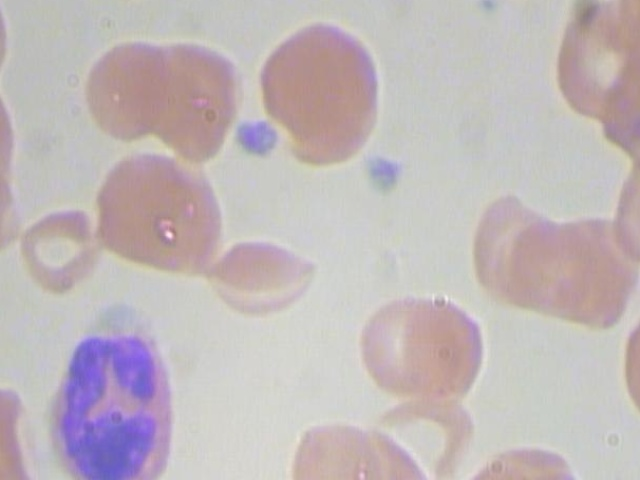Platelets: (33, 320, 186, 480), (226, 112, 279, 167), (353, 148, 409, 198)
RBC: (250, 13, 387, 168), (89, 144, 225, 288), (138, 37, 246, 166), (471, 190, 566, 321), (201, 221, 325, 317), (77, 33, 181, 144), (349, 284, 444, 404), (402, 290, 497, 410), (10, 200, 102, 302), (475, 0, 570, 1)
